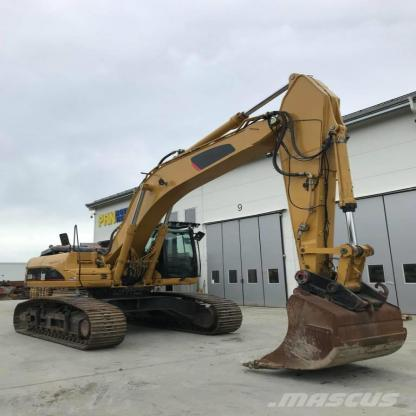excavator: (19, 58, 416, 390)
